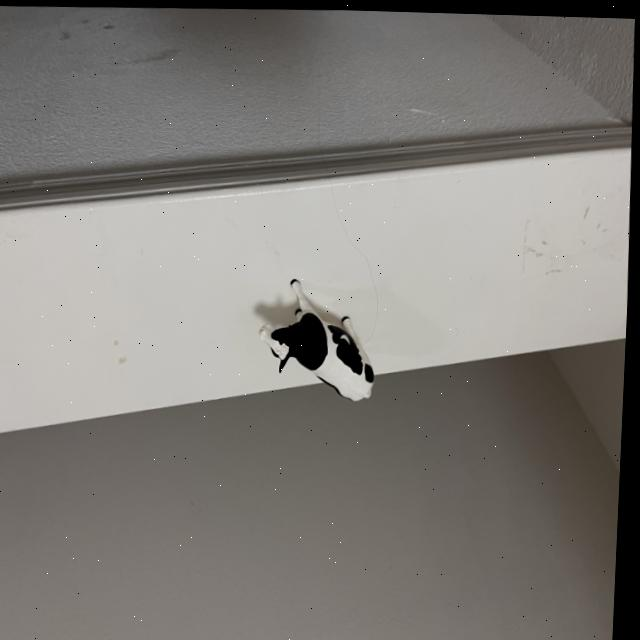cow: (246, 275, 403, 421)
